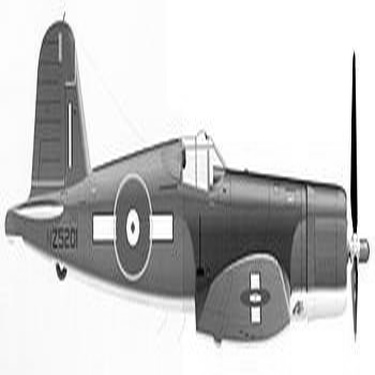airplane: (1, 19, 374, 368)
